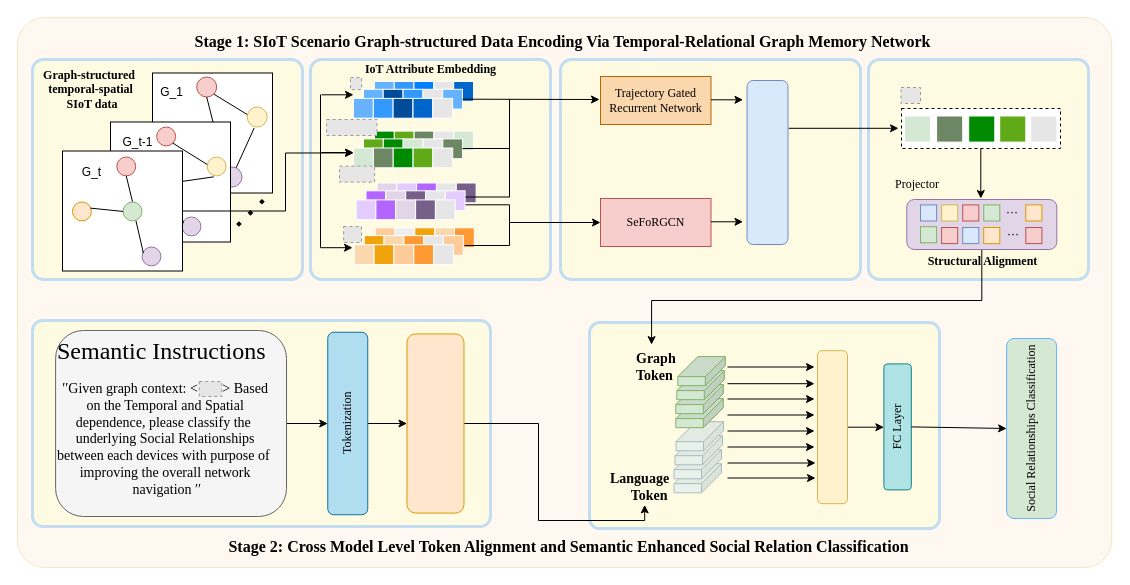
Some shapes in this 1130 by 585 pixel diagram are drawn without their labels. Grey dashed boxes stand in for pictures. Each missing label, with the centre of its shape:
Attention Fusion Mechanism: [767,162]
LLM: [832,427]
Prompt Embedding + Positional Encoding: [435,423]
